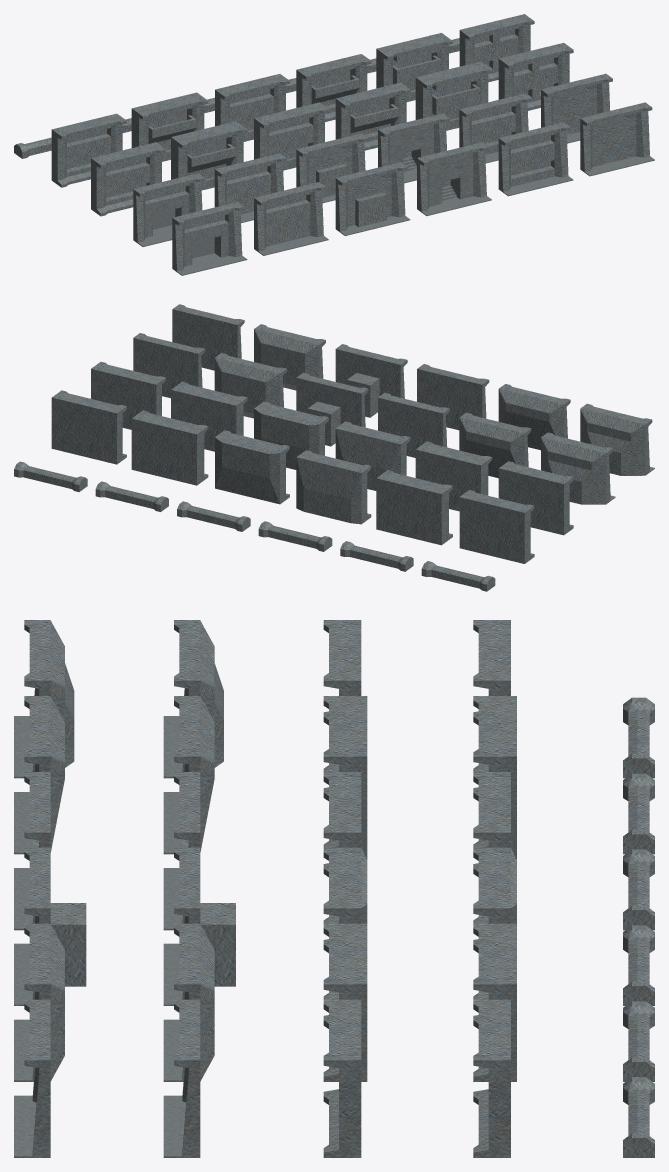
The model's file is building_hard-proposal.glb.
The picture shows the model from 3 angles, top to bottom: view 1: azimuth 30°, elevation 25°; view 2: azimuth 150°, elevation 25°; view 3: azimuth 270°, elevation 25°; orthographic projection. The views are drawn at different scales.
Parts seen in each view (by area): view 1: base0-bay4-lod0, base0-bay2-lod0, base0-bay0-lod0, base0-bay5-lod0, base0-bay3-lod0, base0-bay1-lod0, floor0-bay0-lod0, floor1-bay0-lod0, base1-bay0-lod0, floor0-bay4-lod0, floor0-bay1-lod0, floor0-bay3-lod0 (+13 smaller); view 2: floor1-bay4-lod0, floor1-bay1-lod0, floor1-bay2-lod0, floor1-bay5-lod0, floor1-bay0-lod0, floor1-bay3-lod0, floor0-bay0-lod0, base1-bay0-lod0, base0-bay0-lod0, floor0-bay1-lod0, floor0-bay4-lod0, base0-bay3-lod0 (+18 smaller); view 3: floor0-bay5-lod0, floor1-bay5-lod0, base1-bay3-lod0, base0-bay3-lod0, base1-bay4-lod0, base0-bay4-lod0, base1-bay0-lod0, base0-bay0-lod0, base1-bay5-lod0, base0-bay5-lod0, base1-bay1-lod0, base0-bay1-lod0 (+18 smaller).
Part boxes in pixels (x1,y1,x2,y2): base0-bay4-lod0: (498, 122, 573, 196); base0-bay2-lod0: (335, 162, 410, 235); base0-bay0-lod0: (172, 202, 247, 275); base0-bay5-lod0: (580, 102, 654, 176); base0-bay3-lod0: (417, 142, 491, 215); base0-bay1-lod0: (254, 182, 328, 255); floor0-bay0-lod0: (91, 142, 165, 216); floor1-bay0-lod0: (51, 113, 126, 187); base1-bay0-lod0: (133, 173, 205, 246); floor0-bay4-lod0: (415, 61, 492, 130); floor0-bay1-lod0: (171, 121, 247, 190); floor0-bay3-lod0: (335, 82, 410, 150); floor1-bay4-lod0: (131, 410, 208, 485); floor1-bay1-lod0: (376, 470, 452, 545); floor1-bay2-lod0: (296, 450, 371, 524); floor1-bay5-lod0: (51, 390, 126, 464); floor1-bay0-lod0: (459, 490, 534, 563); floor1-bay3-lod0: (215, 430, 289, 504); floor0-bay0-lod0: (498, 461, 573, 535); base1-bay0-lod0: (541, 432, 615, 504); base0-bay0-lod0: (580, 403, 654, 475); floor0-bay1-lod0: (415, 441, 492, 511); floor0-bay4-lod0: (171, 381, 247, 451); base0-bay3-lod0: (335, 344, 407, 417); floor0-bay5-lod0: (323, 999, 361, 1157); floor1-bay5-lod0: (473, 999, 510, 1157); base1-bay3-lod0: (163, 847, 235, 1005); base0-bay3-lod0: (14, 847, 86, 1005); base1-bay4-lod0: (163, 923, 214, 1081); base0-bay4-lod0: (14, 923, 64, 1081); base1-bay0-lod0: (163, 620, 223, 778); base0-bay0-lod0: (14, 620, 74, 778); base1-bay5-lod0: (163, 999, 200, 1157); base0-bay5-lod0: (14, 999, 50, 1157); base1-bay1-lod0: (163, 696, 214, 854); base0-bay1-lod0: (14, 696, 64, 854).
Bounding box in the file's own units: 174 × 18 × 107.
1 material, 1 textured.
